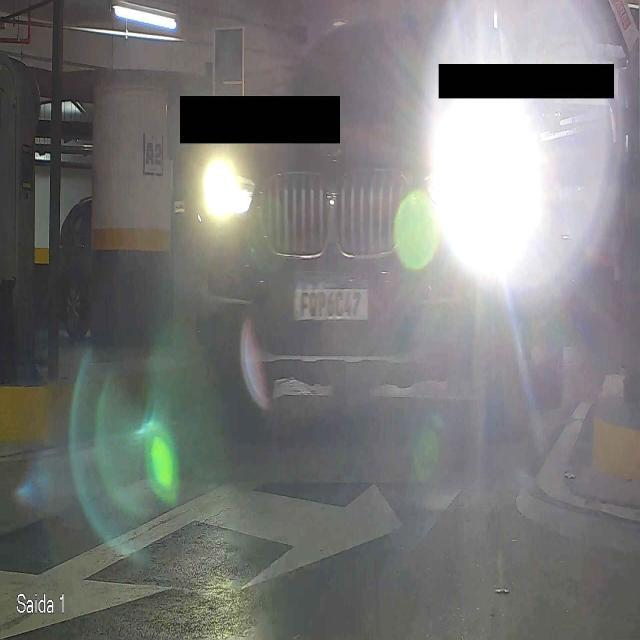mercosul_plate: (291, 274, 372, 324)
